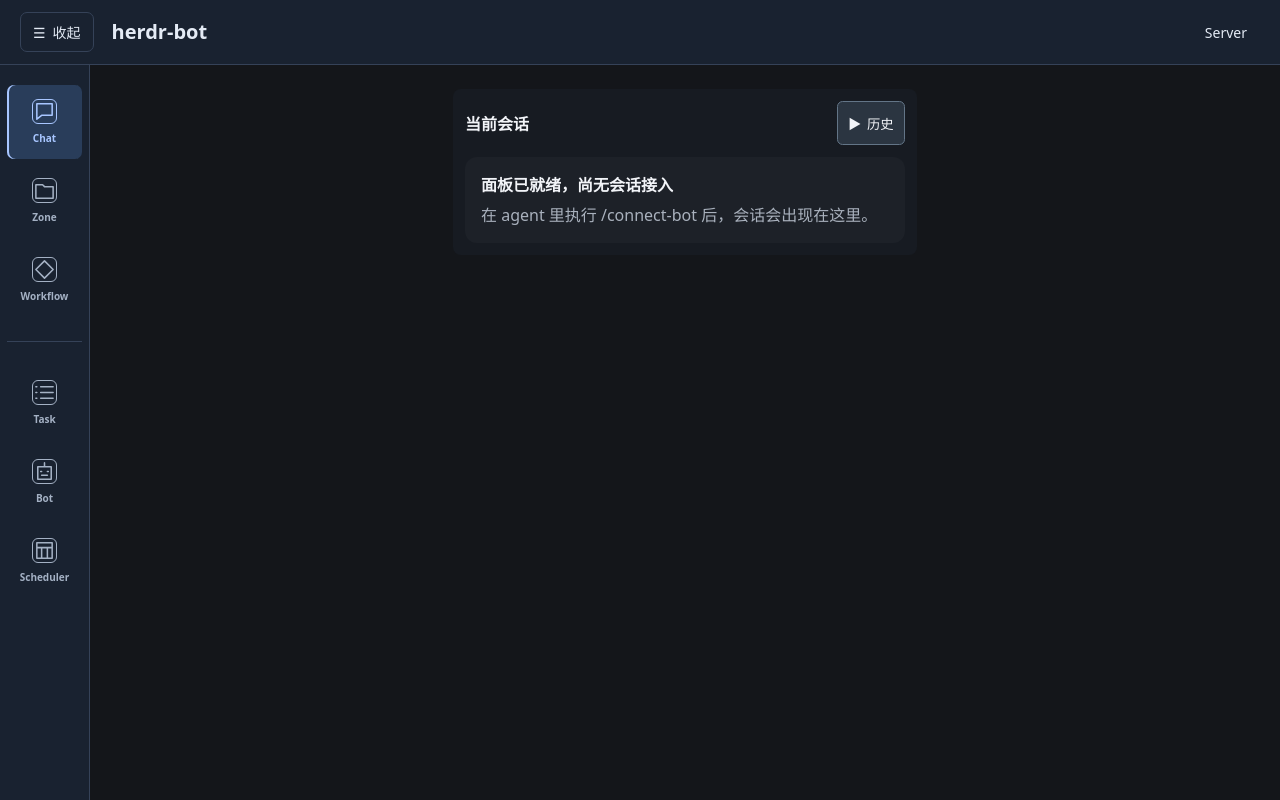
Test: Task tab：读取与展示 › 保存失败不表示已保存，列表保持此前读取到的值
The width and height of the screenshot is (1280, 800).
Click the tab with test id "tab-tasks".
click(44, 403)  # box [7,366,82,440]
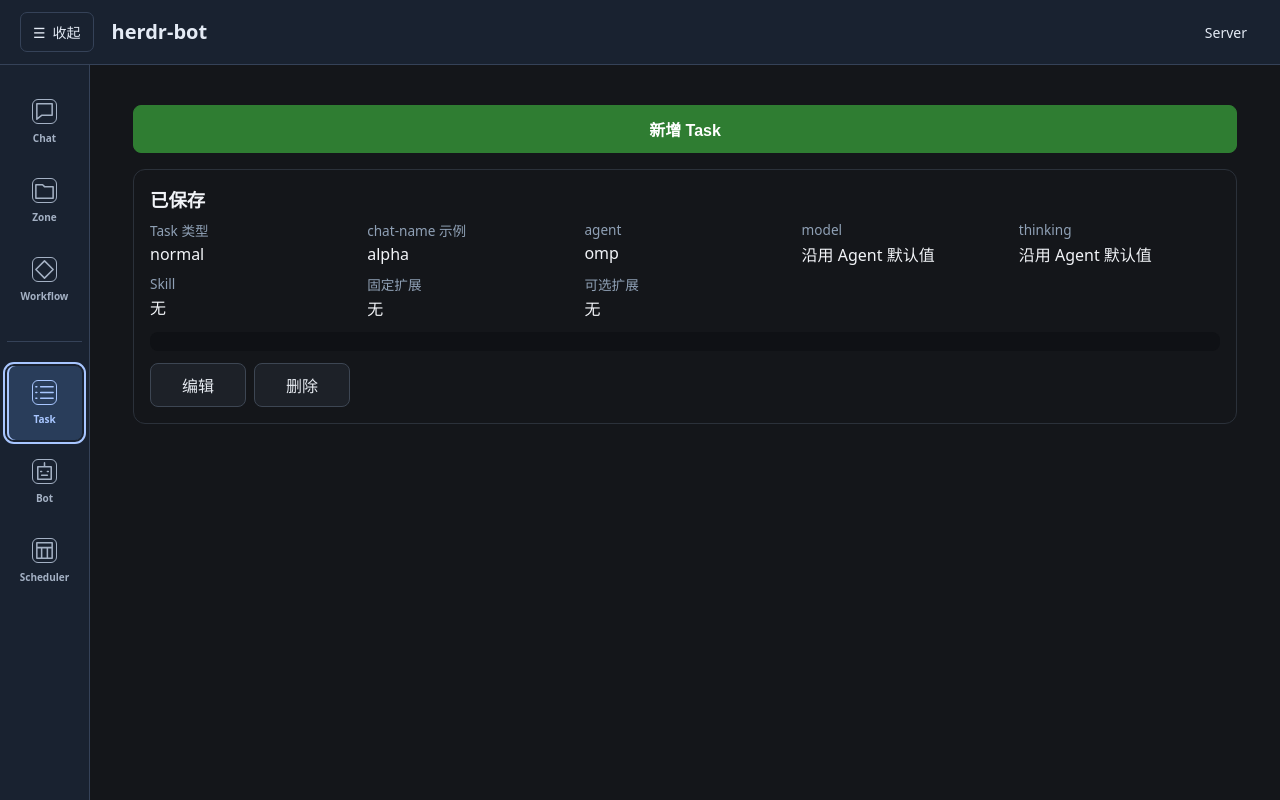
Expected: the list with test id "task-list" is shown, [133,169,1237,424]
Click the button with test id "task-create-open".
click(685, 129)  # box [133,105,1237,153]
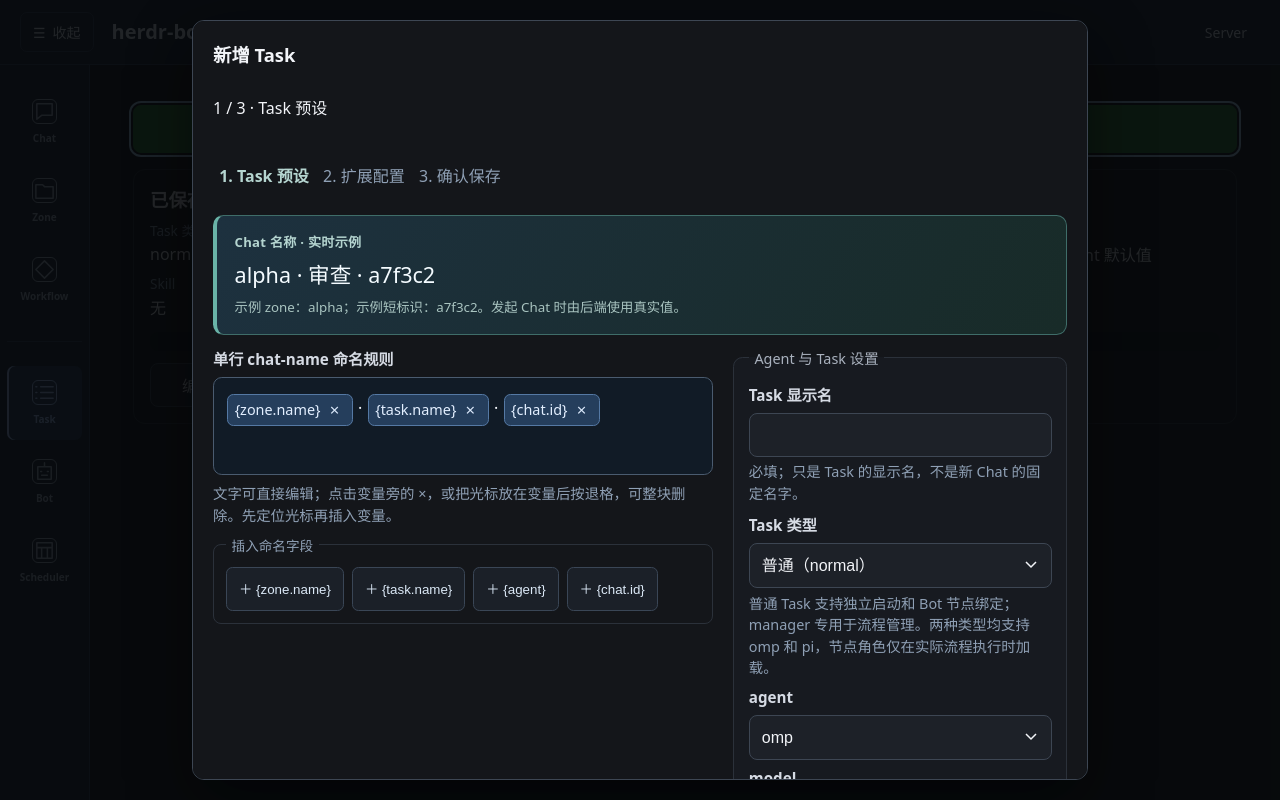
Type "不应保存" into the field with test id "task-name".
click(900, 435); type("不应保存")  # box [749,413,1052,457]
(page scrolled)
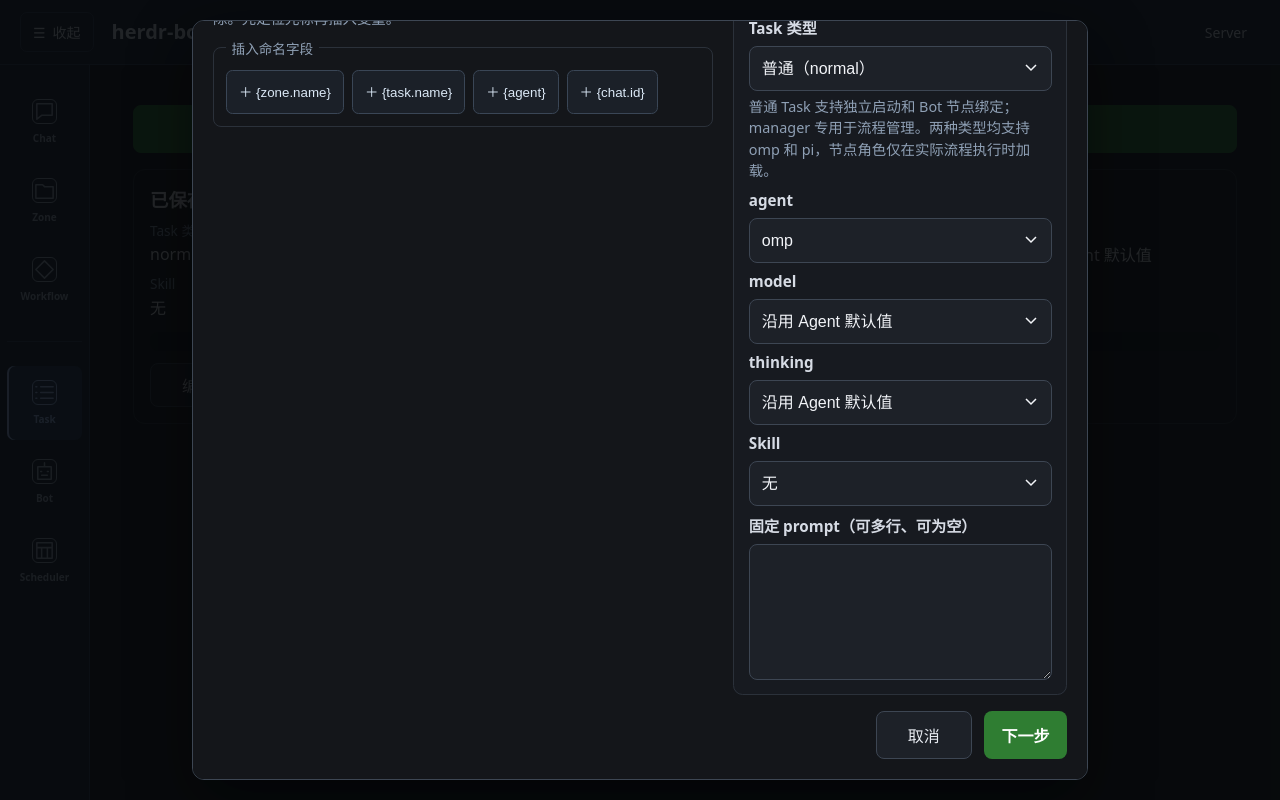
Click the button with test id "task-next".
click(1025, 735)  # box [984,711,1067,759]
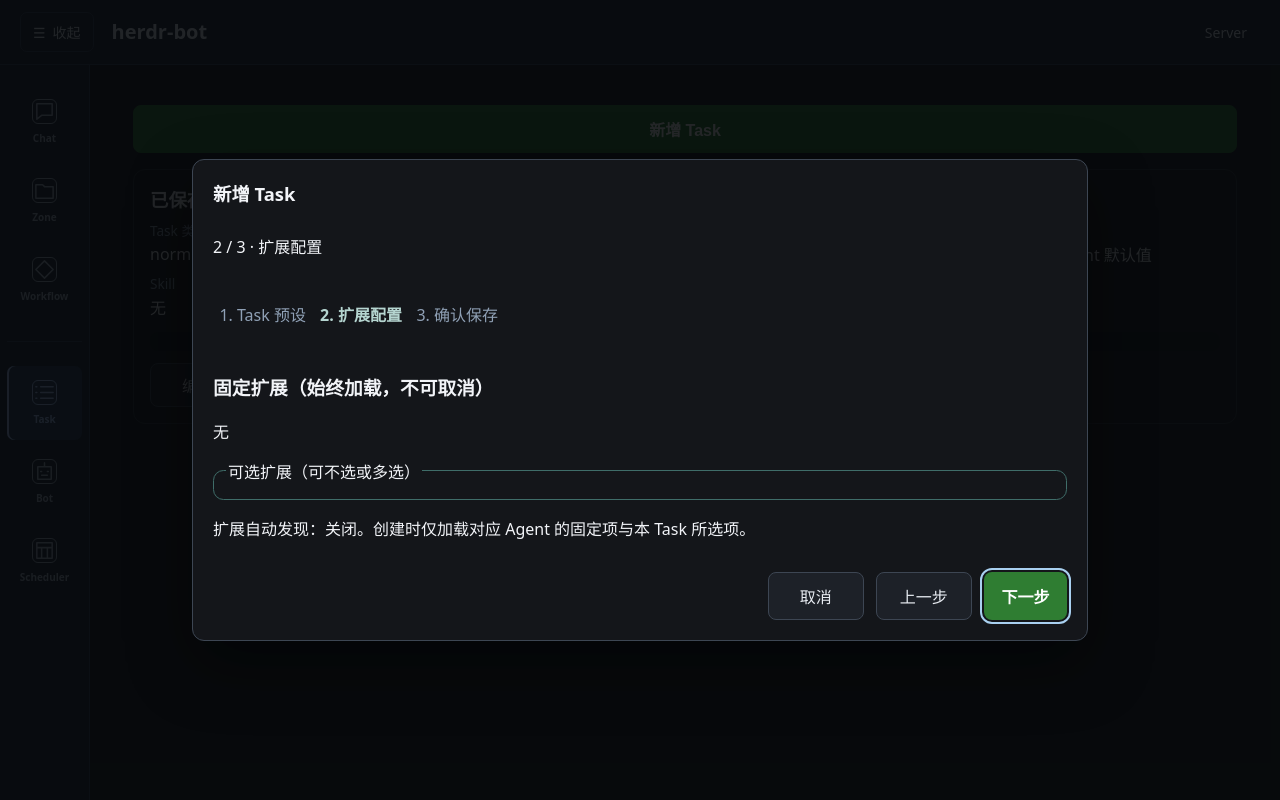
Click the button with test id "task-next".
click(1025, 596)  # box [984,572,1067,620]
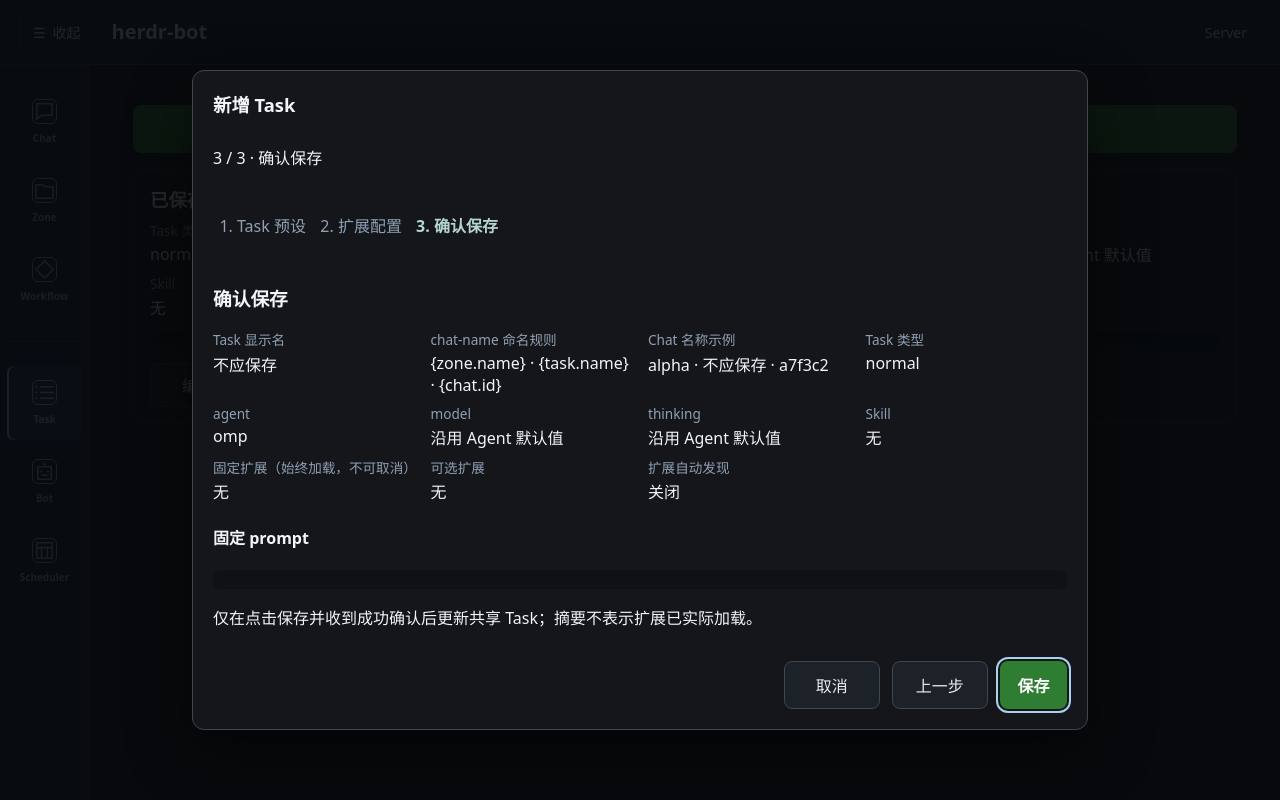
Click the button with test id "save-task".
click(1033, 685)  # box [1000,661,1067,709]
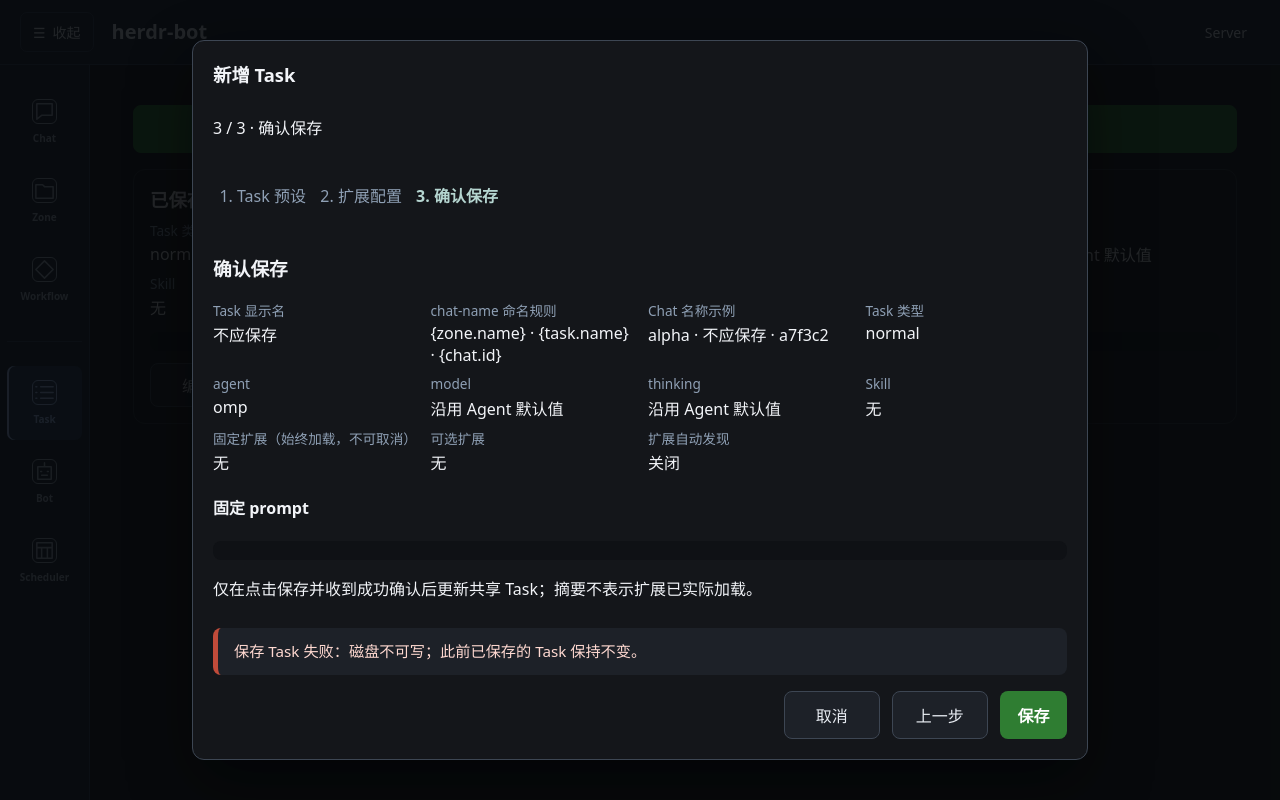
Expected: the dialog with test id "task-dialog" is shown
Expected: the list with test id "task-list" shows "已保存", [150,187,205,212]
Expected: the message with test id "task-form-error" reads "保存 Task 失败：磁盘不可写；此前已保存的 Task 保持不变。", [234,641,646,661]
